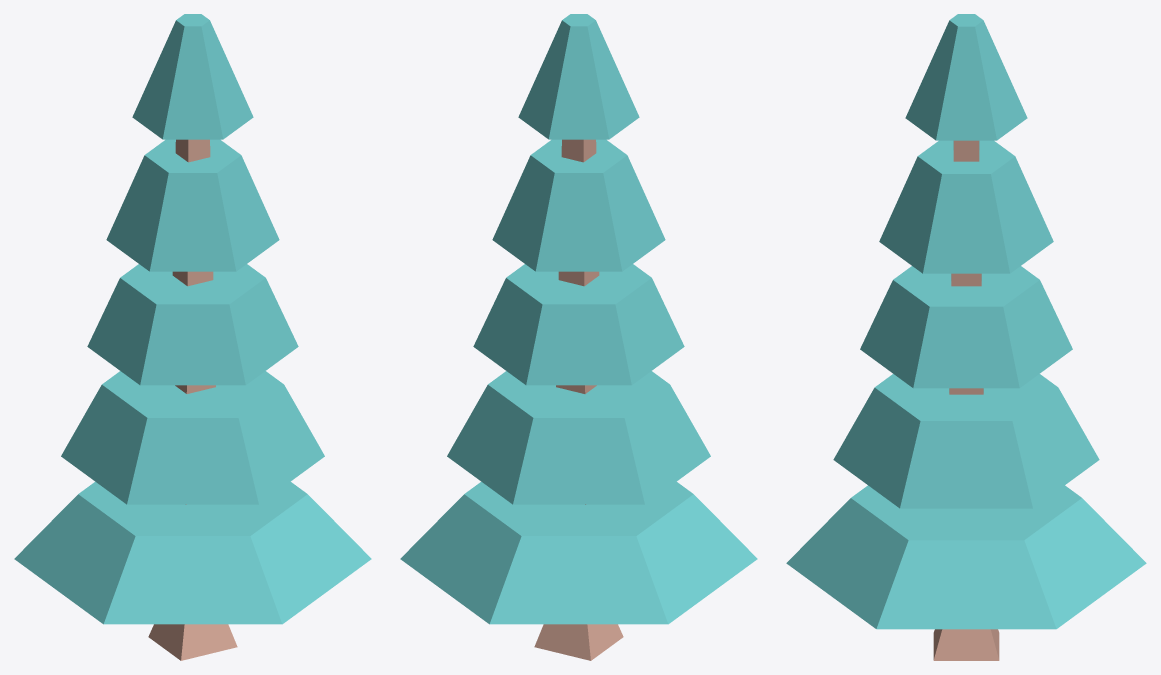
The model's file is tree_pineRoundA.glb.
3 views of the same model, side by side, from view 1: azimuth 30°, elevation 25°; view 2: azimuth 150°, elevation 25°; view 3: azimuth 270°, elevation 25° (orthographic).
Visible parts, largest first — view 1: tree_pineRoundA; view 2: tree_pineRoundA; view 3: tree_pineRoundA.
Boxes of the visible parts, x1,y1,x2,y2 form: tree_pineRoundA: (14,14,371,660); tree_pineRoundA: (400,14,757,660); tree_pineRoundA: (786,14,1146,660).
Bounding box in the file's own units: 0.617 × 1.37 × 0.7125.
Materials: 1 (1 with a texture image).
